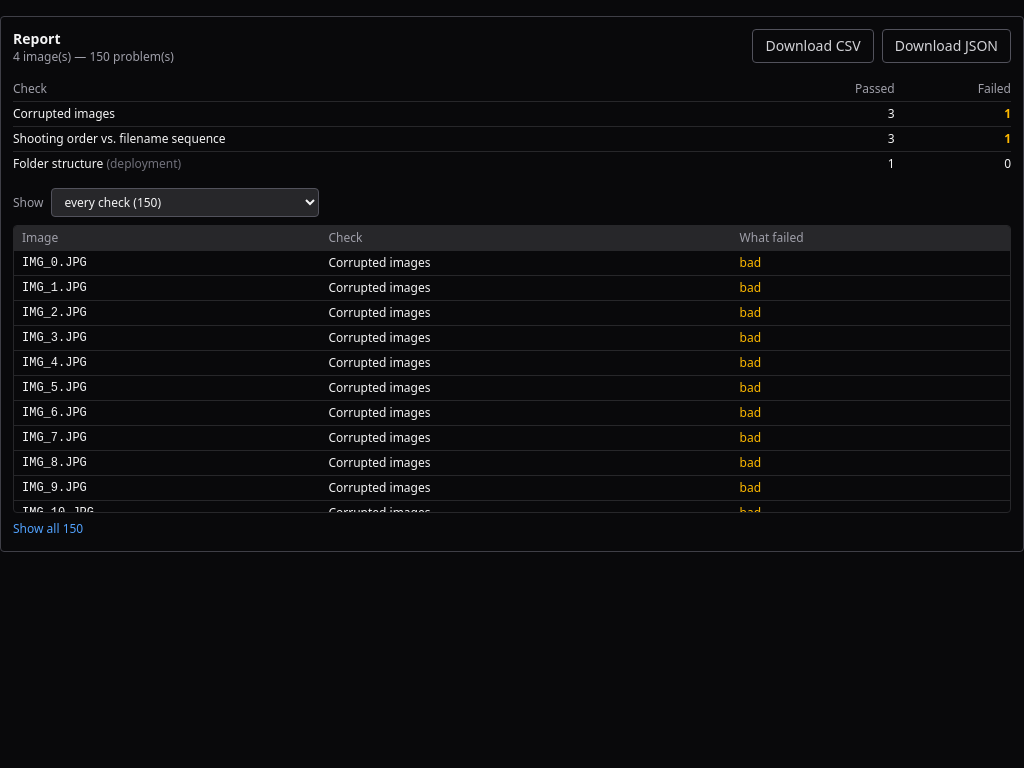
Test: ReportPanel › shows the first failures and the rest on request
Expected: the text "IMG_0.JPG" is shown, [14,250,320,276]
Expected: the text "IMG_149.JPG" is not shown
What coordinates should you click on to do the following:
click the button "Show all 150"
I would click on:
 (48, 529)
Its box is [13,521,83,537].
(page scrolled)
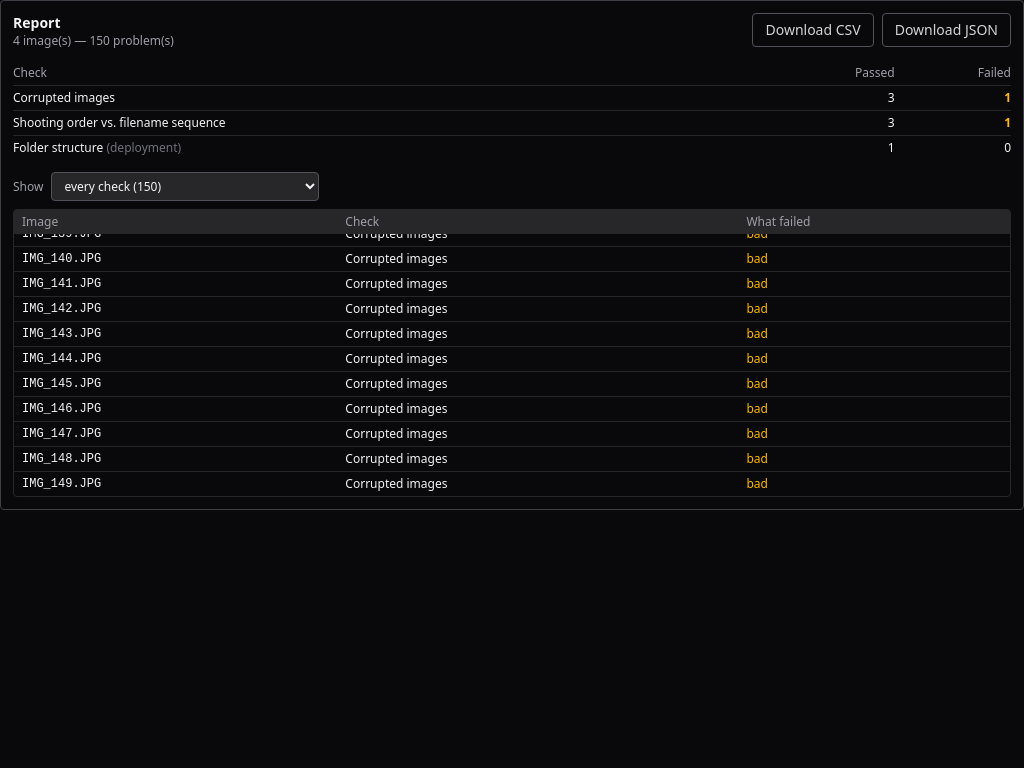
Result: the text "IMG_149.JPG" is shown at [14,472,337,496]
